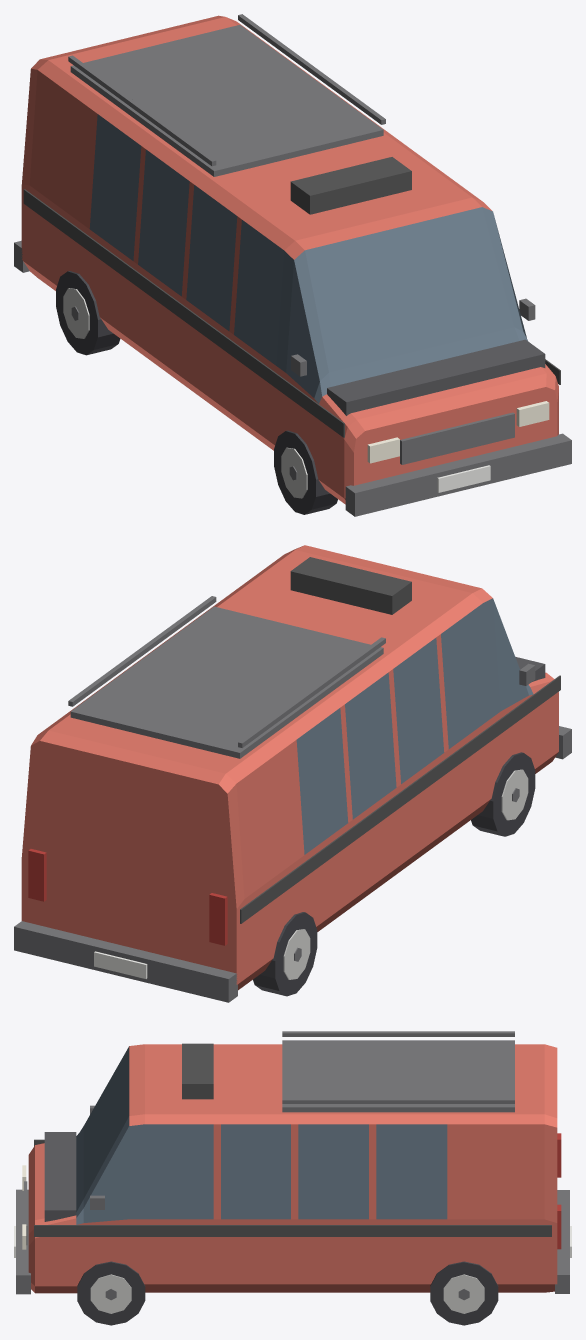
Rendered from minibus.glb.
3 views of the same model, one above another, from view 1: azimuth 30°, elevation 25°; view 2: azimuth 150°, elevation 25°; view 3: azimuth 270°, elevation 25° (orthographic). The views are drawn at different scales.
Parts seen in each view (by area): view 1: Govde, Tampon, Ic, Teker_ArkaSag, Teker_OnSag, Far; view 2: Govde, Tampon, Teker_OnSag, Teker_ArkaSag, Stop; view 3: Govde, Tampon, Teker_ArkaSol, Teker_OnSol, Ic, Stop.
Boxes of the visible parts, x1,y1,x2,y2 form: Govde: (21,15,558,504); Tampon: (14,14,571,516); Ic: (327,339,545,415); Teker_ArkaSag: (56,271,120,355); Teker_OnSag: (274,430,337,514); Far: (367,401,549,463); Govde: (21,545,558,990); Tampon: (14,557,571,1002); Teker_OnSag: (471,752,535,836); Teker_ArkaSag: (253,912,317,996); Stop: (28,849,227,945); Govde: (28,1044,557,1293); Tampon: (14,1031,571,1294); Teker_ArkaSol: (430,1261,498,1325); Teker_OnSol: (77,1261,145,1325); Ic: (44,1132,76,1221); Stop: (557,1133,561,1249).
Size of the model in its own units: 2.08 by 2.28 by 5.28.
